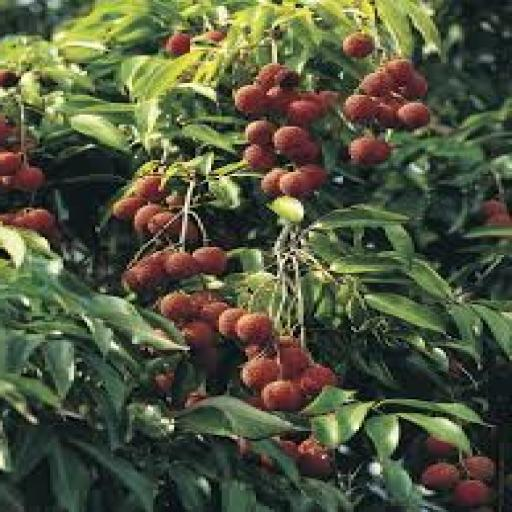lychee: (261, 380, 302, 411), (240, 358, 278, 391), (271, 127, 310, 158), (348, 137, 389, 166), (298, 364, 336, 395), (234, 313, 273, 343), (158, 293, 196, 322), (277, 346, 310, 379), (131, 204, 165, 235), (419, 463, 458, 490), (285, 99, 323, 126), (13, 210, 54, 235), (163, 252, 199, 280), (395, 101, 429, 130), (298, 451, 334, 478), (453, 481, 489, 508), (343, 95, 376, 124), (182, 321, 215, 349), (131, 174, 165, 201), (216, 309, 247, 338), (242, 145, 276, 171), (279, 171, 313, 197), (234, 86, 265, 114), (192, 248, 225, 274), (461, 457, 495, 482), (110, 196, 144, 221), (197, 301, 228, 328), (266, 87, 297, 114), (147, 210, 178, 237), (358, 72, 392, 96), (343, 32, 373, 59), (382, 60, 413, 86), (10, 167, 43, 191), (256, 64, 286, 90), (245, 121, 276, 146), (258, 169, 286, 195), (398, 72, 426, 98), (424, 435, 455, 458), (290, 141, 320, 164), (298, 165, 326, 189), (163, 34, 189, 57), (274, 68, 299, 88), (0, 151, 20, 175), (480, 200, 505, 217), (200, 30, 225, 43), (0, 70, 17, 88)
